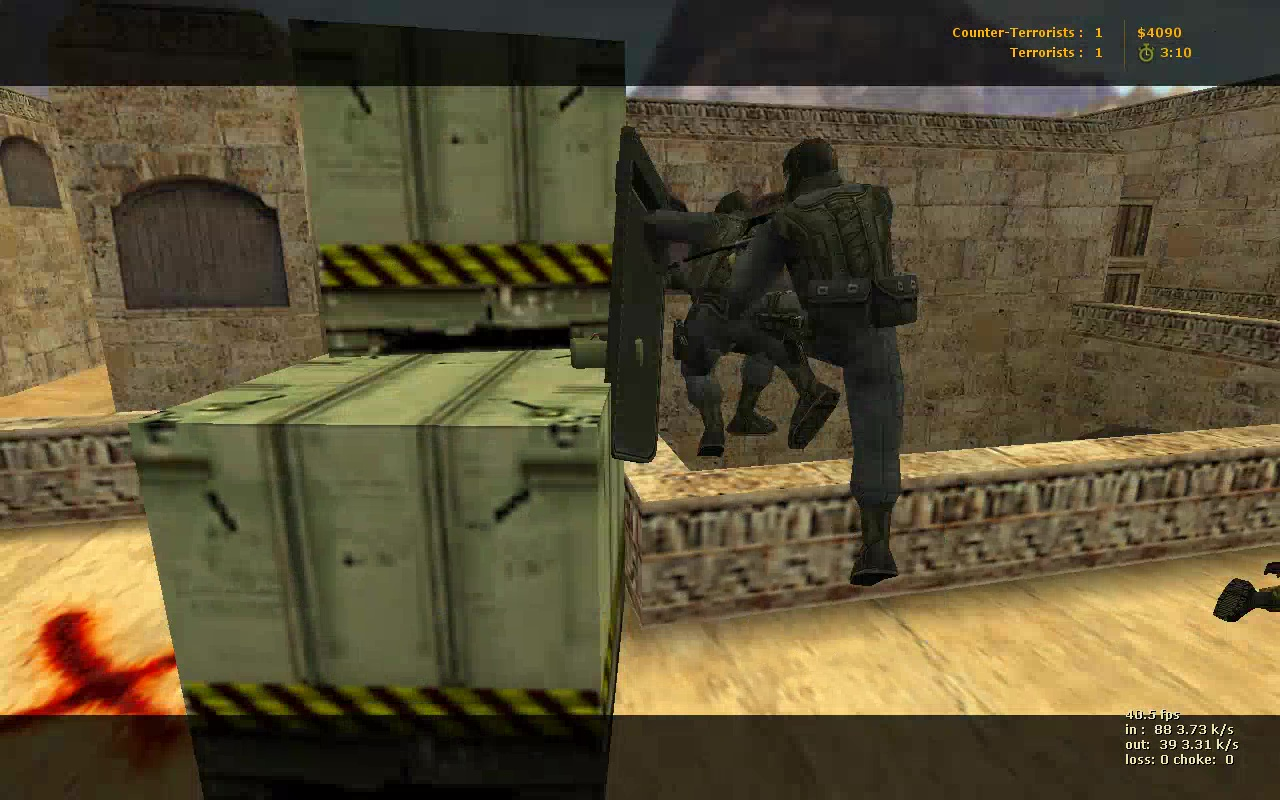ct: (723, 140, 921, 591), (604, 124, 790, 466)
